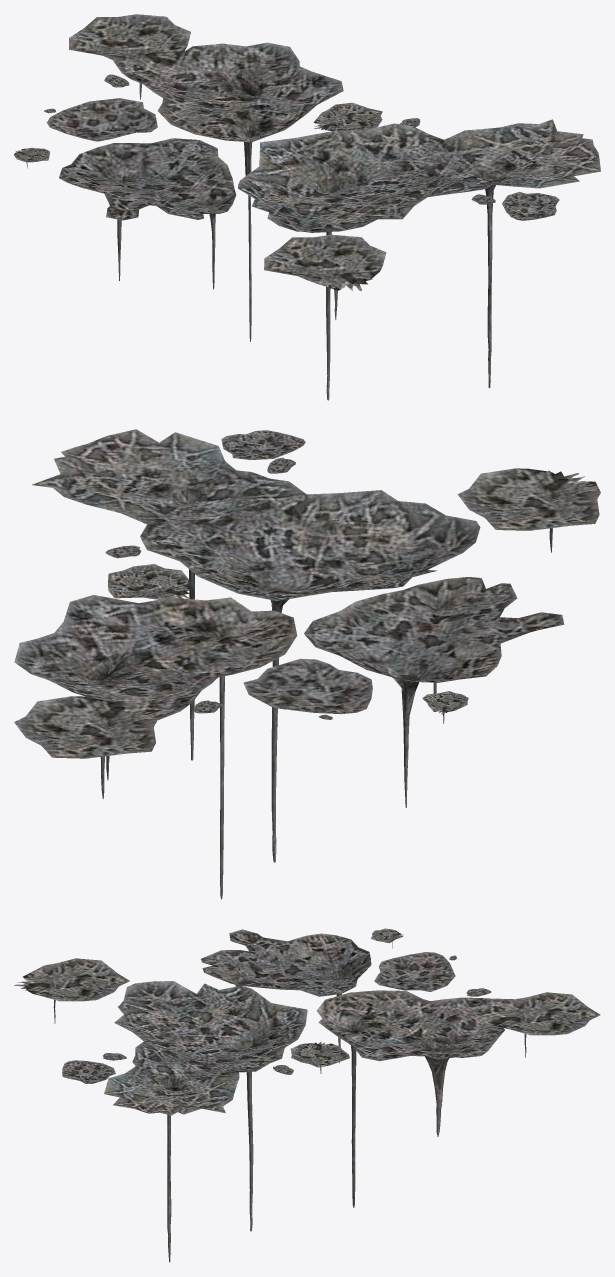
File: sm20_020_dirtfromceiling01a.fbx
3 renders of one model, top to bottom at view 1: azimuth 30°, elevation 25°; view 2: azimuth 150°, elevation 25°; view 3: azimuth 270°, elevation 25°, orthographic. The views are drawn at different scales.
Visible parts, largest first — view 1: LOD_1_Group_0_Sub_1__sm20_020_DirtFromCeiling01A_A_Mat__Env_; view 2: LOD_1_Group_0_Sub_1__sm20_020_DirtFromCeiling01A_A_Mat__Env_; view 3: LOD_1_Group_0_Sub_1__sm20_020_DirtFromCeiling01A_A_Mat__Env_.
Part boxes in pixels (box(x1,y1,x2,y2)): LOD_1_Group_0_Sub_1__sm20_020_DirtFromCeiling01A_A_Mat__Env_: box(14, 14, 600, 400); LOD_1_Group_0_Sub_1__sm20_020_DirtFromCeiling01A_A_Mat__Env_: box(14, 429, 600, 899); LOD_1_Group_0_Sub_1__sm20_020_DirtFromCeiling01A_A_Mat__Env_: box(14, 928, 600, 1262).
Size of the model in its own units: 1.88 by 0.9731 by 2.47.
